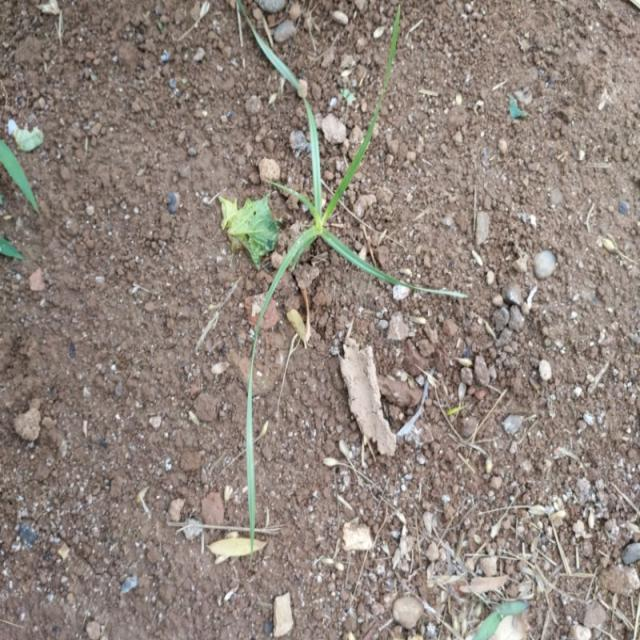sedge: (234, 0, 448, 398)
